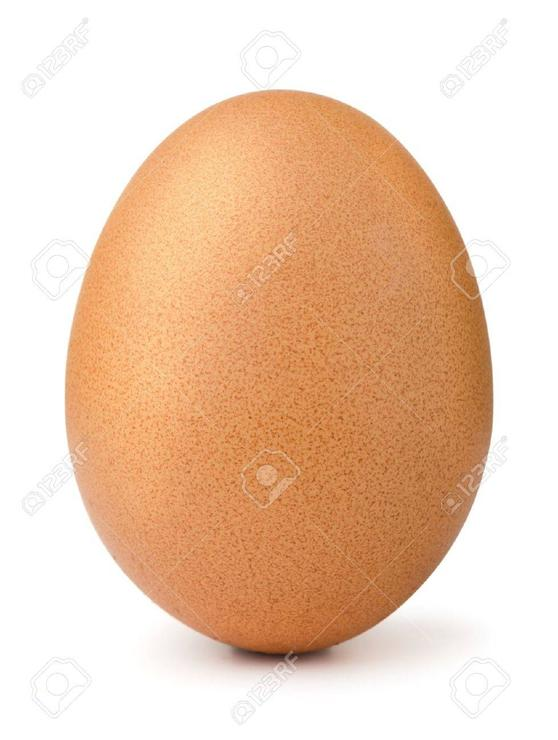egg: (68, 91, 499, 677)
